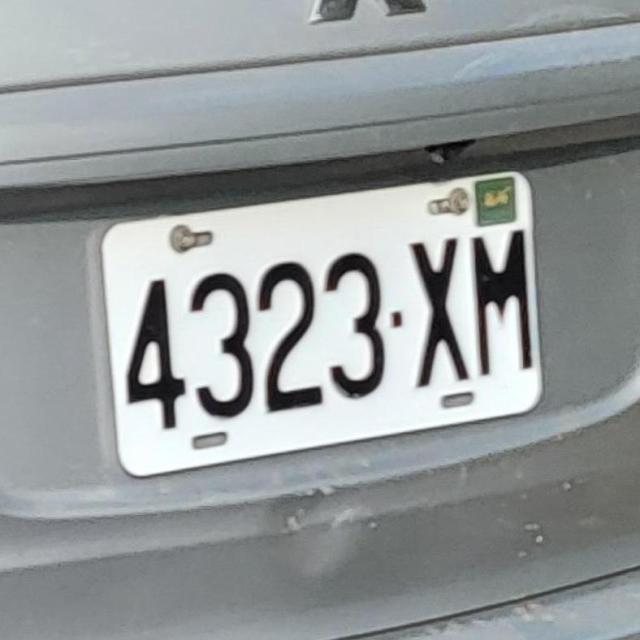W: (86, 152, 564, 503)
